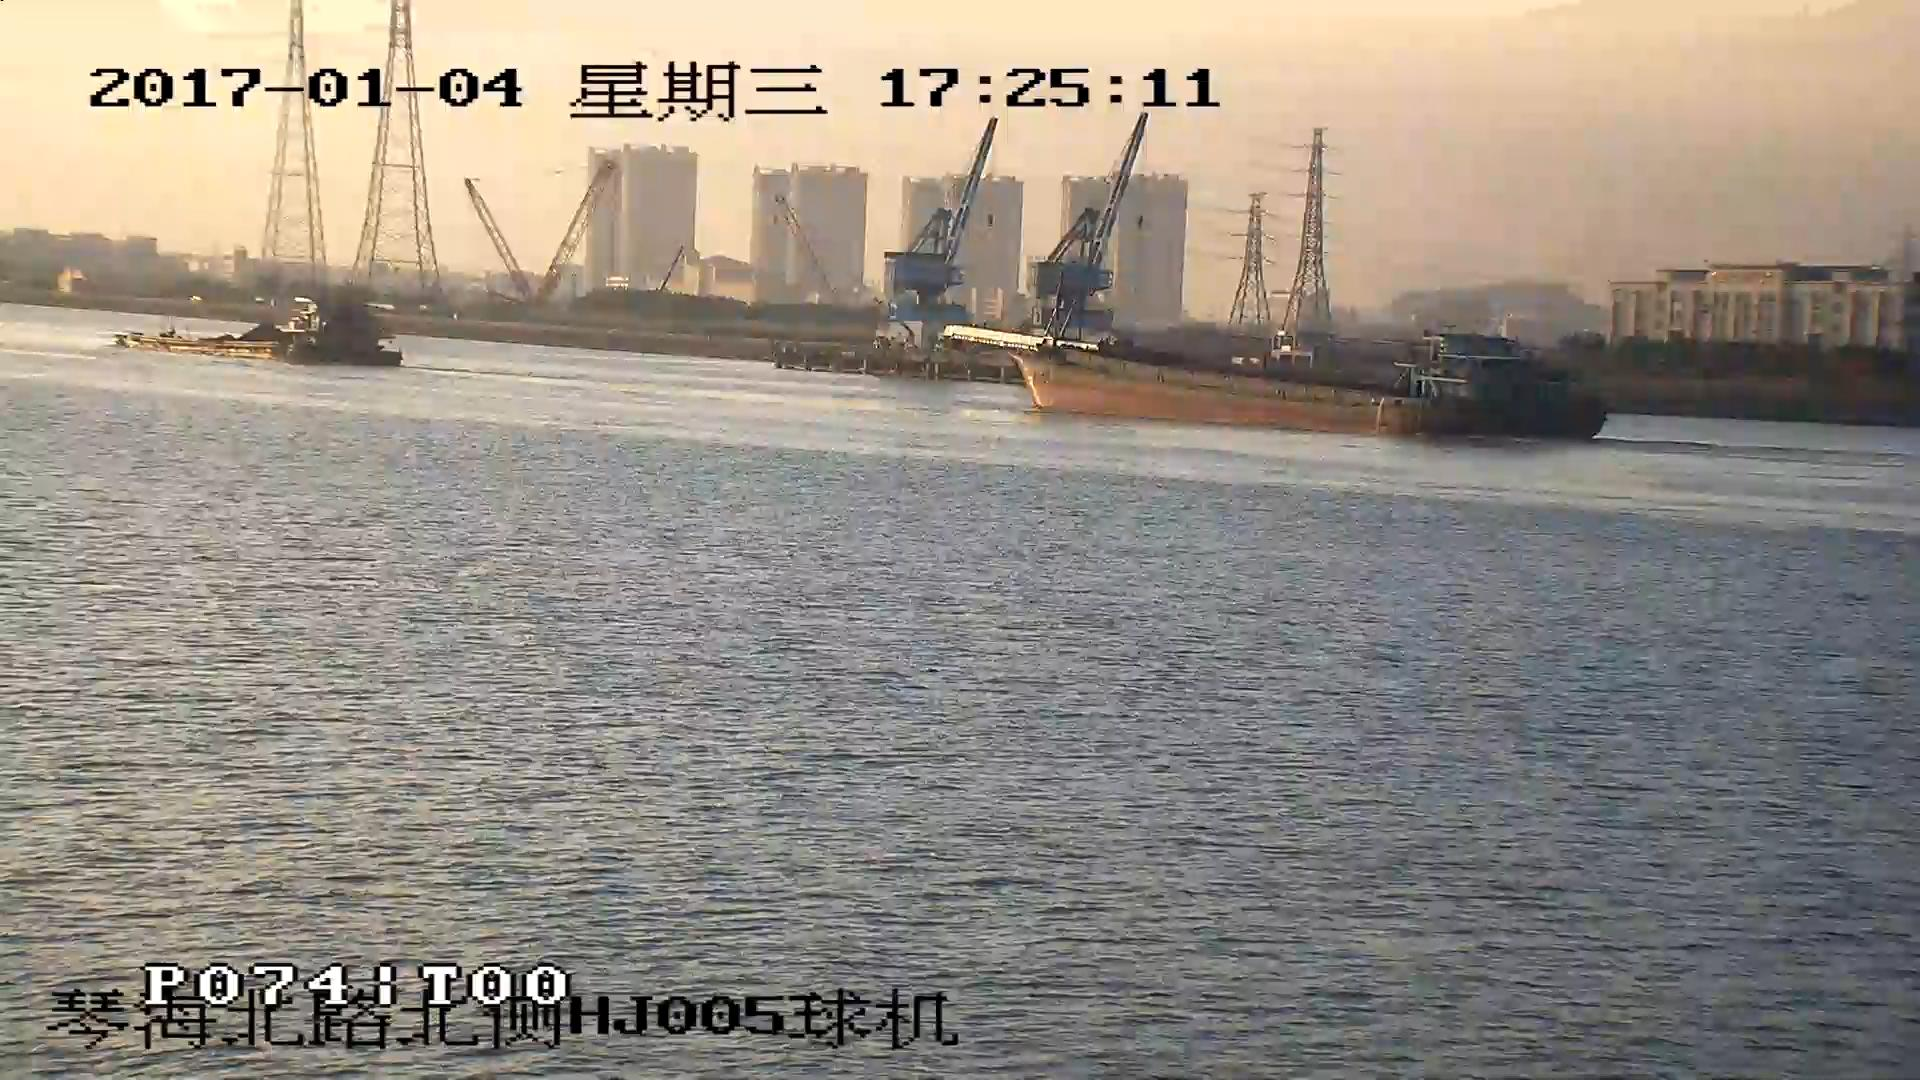bulk cargo carrier: (951, 320, 1609, 440)
ore carrier: (114, 302, 402, 365)
